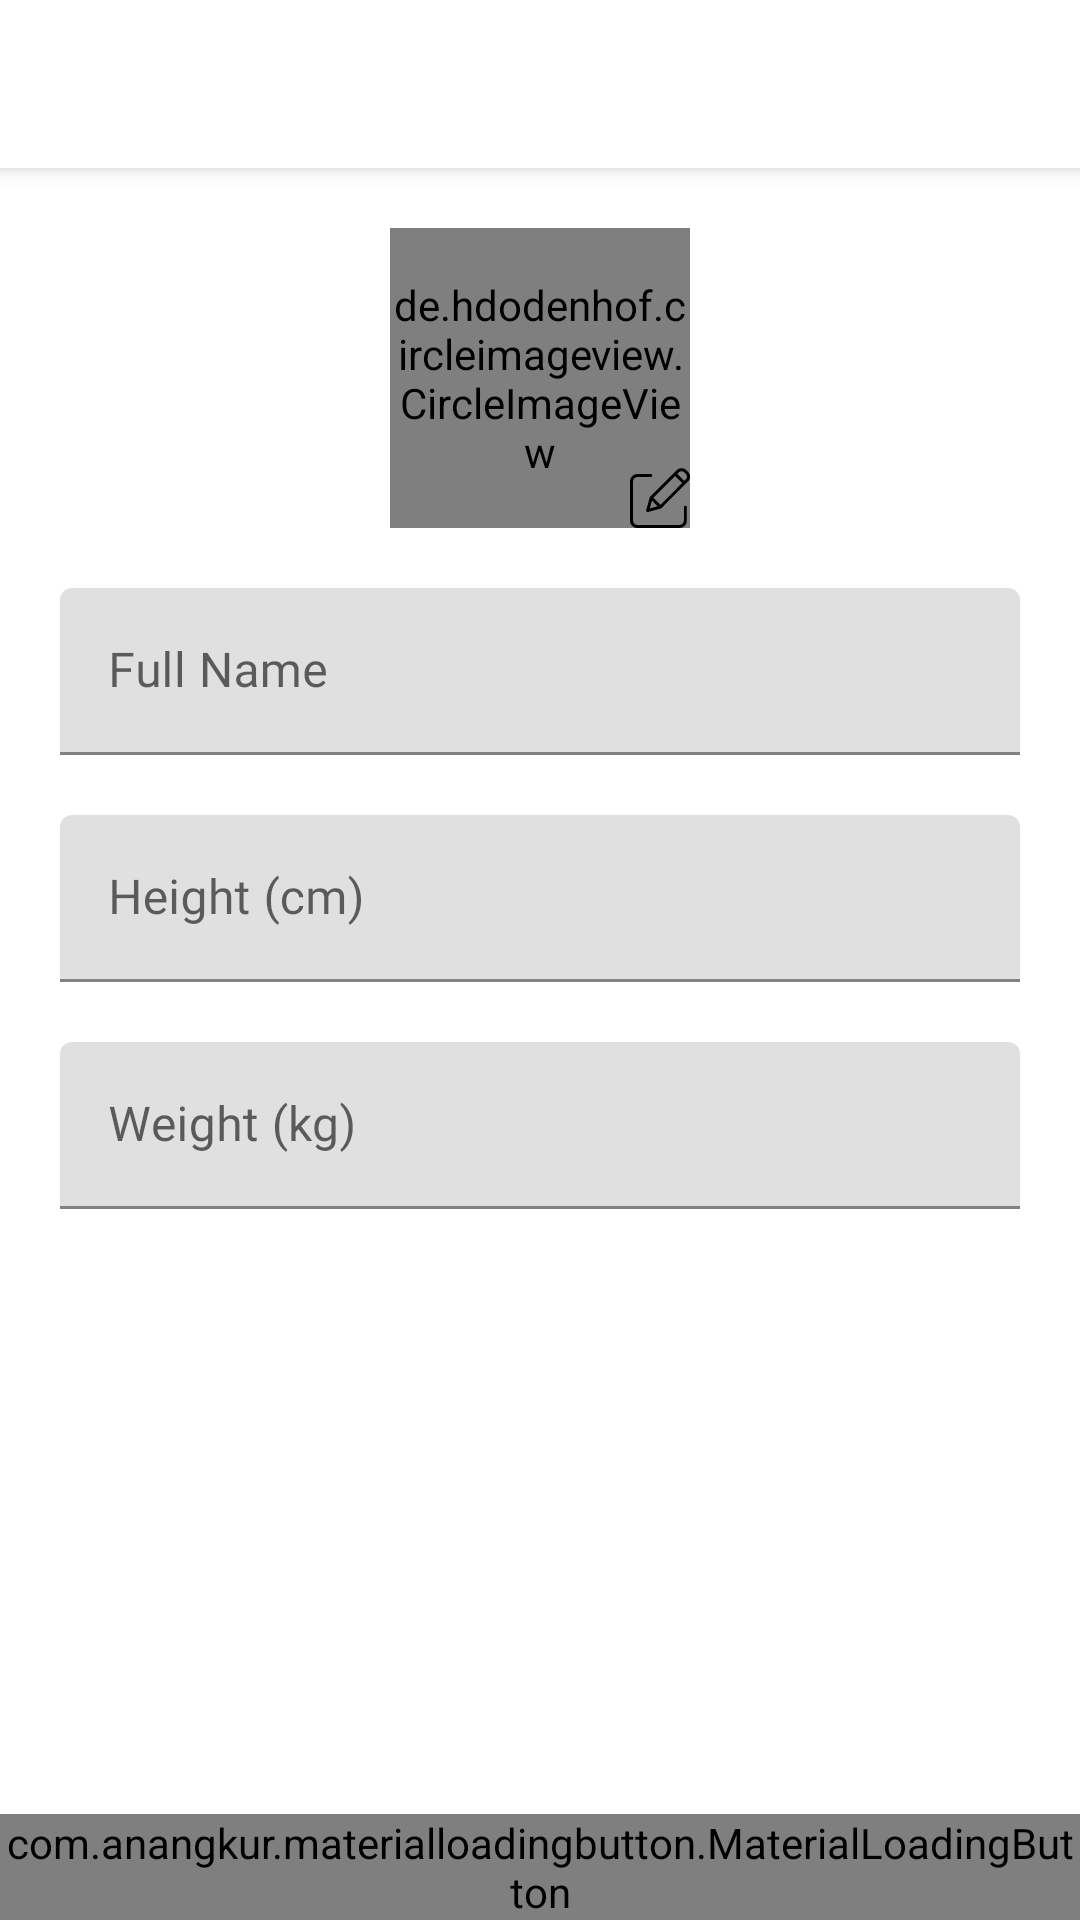

Icons on this 1080 × 1920 Android screen, each with the point to tap as (x=x, y=y):
edit: (x=660, y=498)
